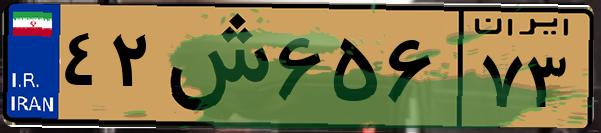2: (110, 28, 158, 98)
3: (525, 38, 570, 115)
4: (57, 26, 110, 100)
5: (330, 28, 385, 110)
6: (270, 28, 330, 110), (385, 28, 445, 110)
7: (475, 38, 525, 113)
ش: (158, 12, 270, 120)
